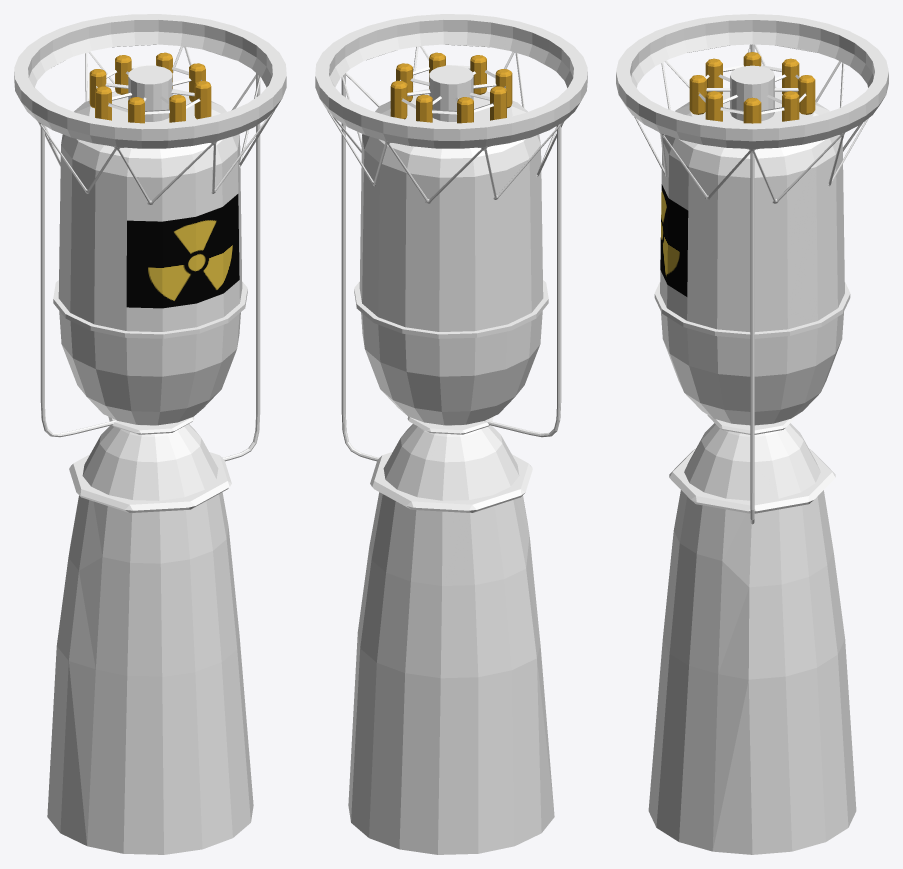
File: NERV.glb
The picture shows the model from 3 angles, left to right: view 1: azimuth 30°, elevation 25°; view 2: azimuth 150°, elevation 25°; view 3: azimuth 270°, elevation 25°; orthographic projection.
Parts seen in each view (by area): view 1: Circle; view 2: Circle; view 3: Circle.
Boxes of the visible parts, x1,y1,x2,y2 form: Circle: (14,14,286,854); Circle: (315,14,587,854); Circle: (616,14,888,854).
Size of the model in its own units: 1.42 by 4.23 by 1.42.
4 materials, 1 textured.
